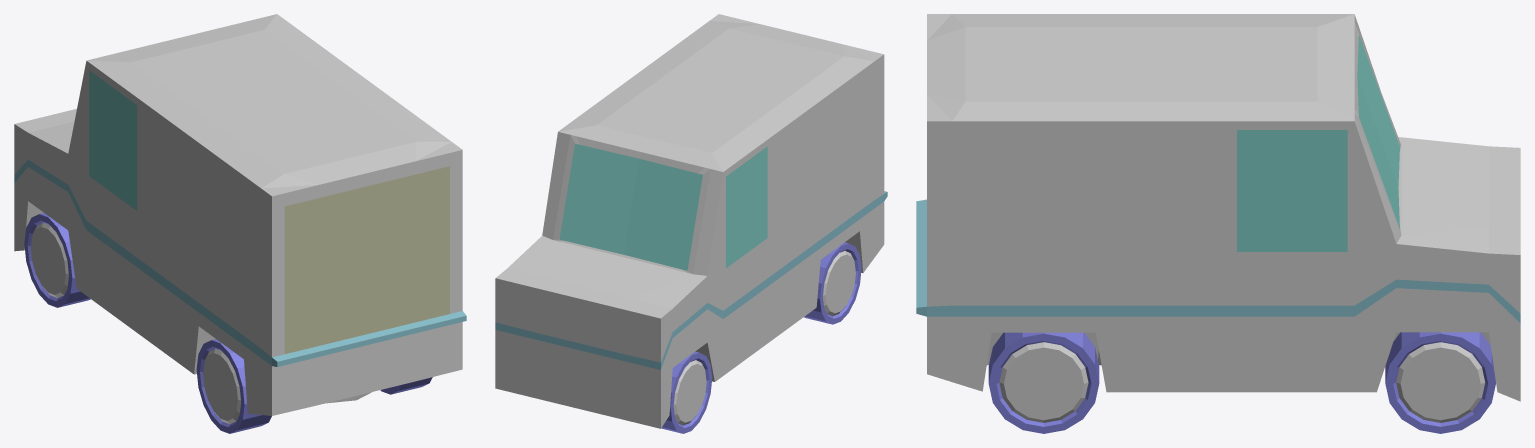
Rendered from Van.fbx.
3 renders of one model, left to right at view 1: azimuth 30°, elevation 25°; view 2: azimuth 150°, elevation 25°; view 3: azimuth 270°, elevation 25°, orthographic. The views are drawn at different scales.
Parts seen in each view (by area): view 1: Cube, Cylinder.000, Cylinder.001; view 2: Cube, Cylinder.000, Cylinder.001; view 3: Cube, Cylinder.000, Cylinder.001.
Part boxes in pixels (x1,y1,x2,y2): Cube: (14, 14, 466, 415); Cylinder.000: (196, 339, 432, 433); Cylinder.001: (24, 213, 90, 307); Cube: (495, 14, 887, 428); Cylinder.000: (804, 242, 861, 324); Cylinder.001: (661, 351, 712, 433); Cube: (916, 14, 1520, 401); Cylinder.000: (988, 332, 1099, 433); Cylinder.001: (1385, 332, 1495, 433).
Size of the model in its own units: 255 by 347 by 602.
